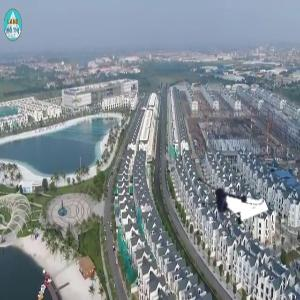drone: (185, 159, 261, 235)
